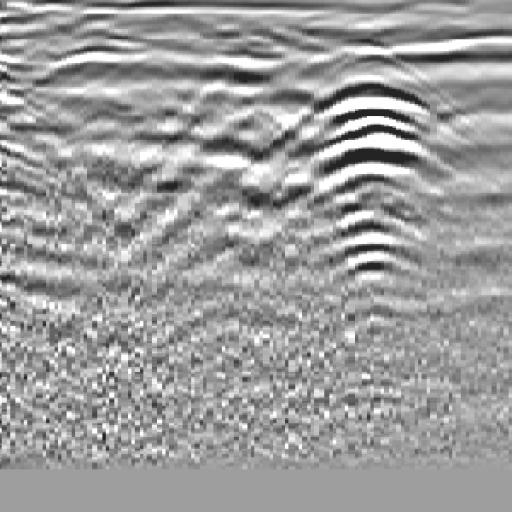metalic: (248, 22, 486, 315)
